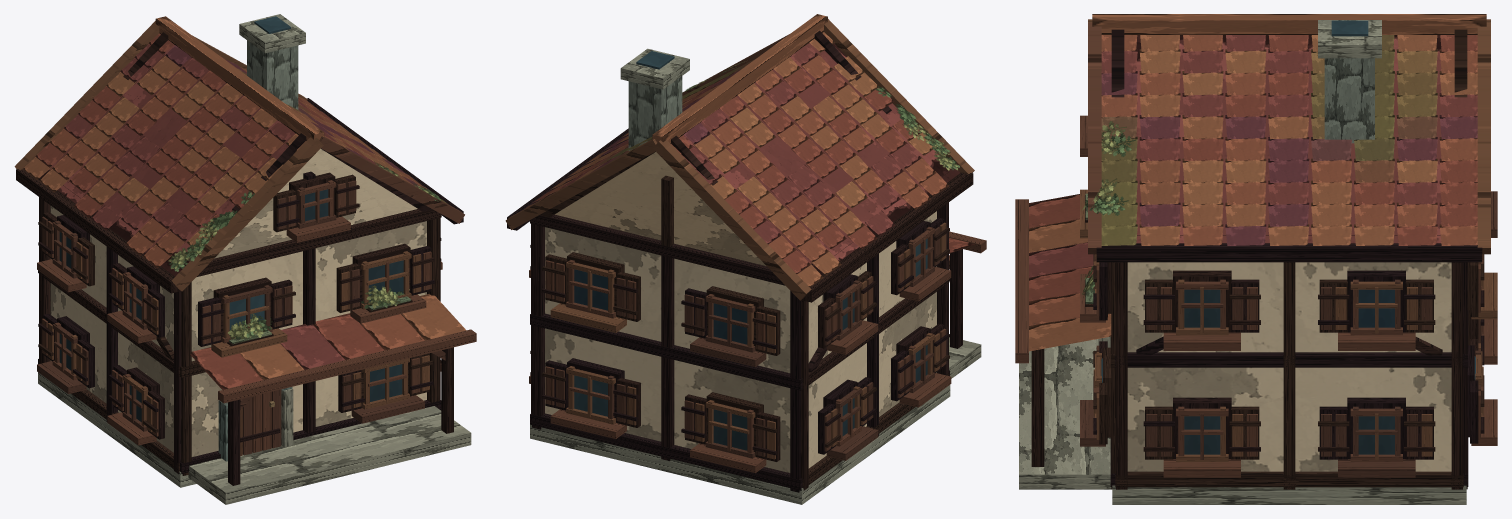
The model's file is cottage_right.glb.
3 views of the same model, side by side, from view 1: azimuth 30°, elevation 25°; view 2: azimuth 150°, elevation 25°; view 3: azimuth 270°, elevation 25° (orthographic). The views are drawn at different scales.
Visible parts, largest first — view 1: cottage_right; view 2: cottage_right; view 3: cottage_right.
Boxes of the visible parts, x1,y1,x2,y2 form: cottage_right: (14,14,476,504); cottage_right: (505,14,986,504); cottage_right: (1015,14,1497,504).
Bounding box in the file's own units: 4.17 × 4.56 × 4.6.
6 materials, 6 textured.
